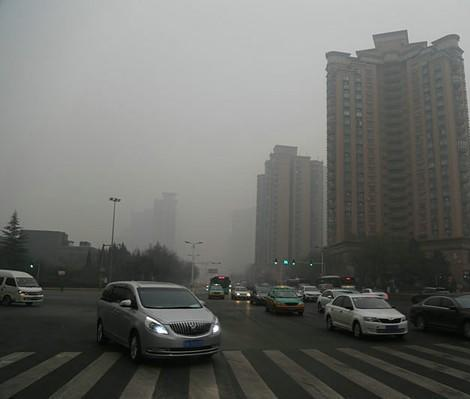bus: (318, 275, 356, 299), (208, 275, 231, 295)
car: (94, 281, 224, 360), (324, 293, 409, 337), (411, 292, 470, 337), (1, 270, 45, 304), (264, 285, 304, 313), (317, 288, 364, 311), (249, 287, 272, 303), (300, 285, 323, 301), (207, 283, 225, 299), (231, 286, 251, 299)
